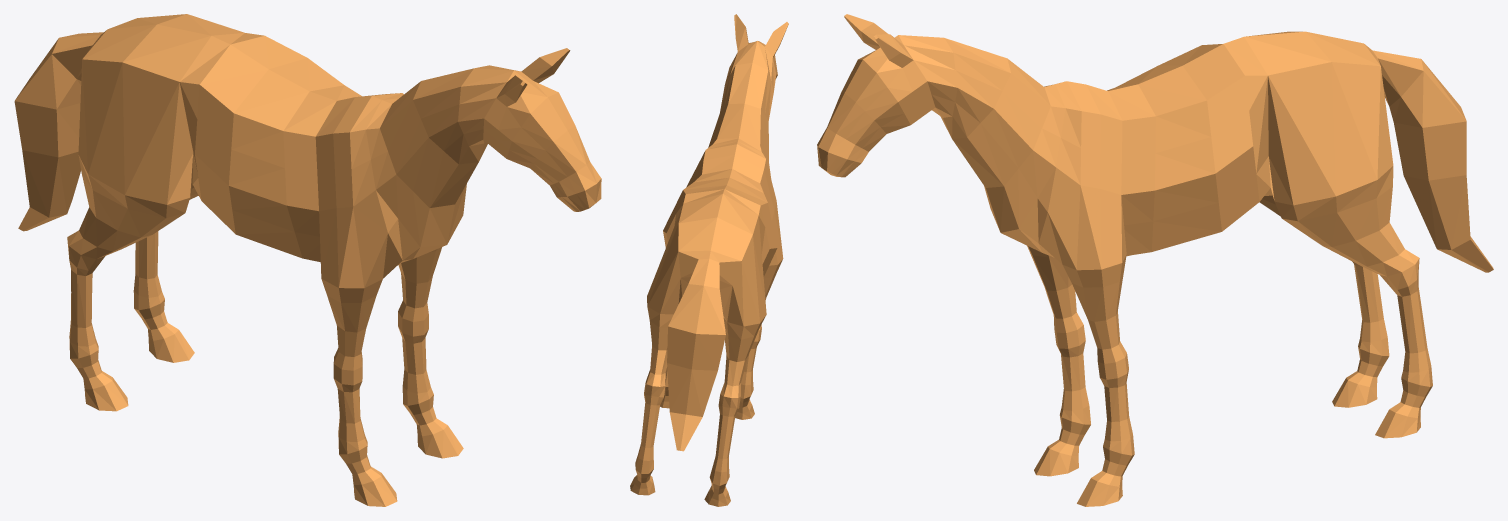
The model's file is horse.gltf.
3 views of the same model, side by side, from view 1: azimuth 30°, elevation 25°; view 2: azimuth 150°, elevation 25°; view 3: azimuth 270°, elevation 25° (orthographic). The views are drawn at different scales.
Visible parts, largest first — view 1: root; view 2: root; view 3: root.
Boxes of the visible parts, <box> form: root: <box>14,14,601,506</box>; root: <box>630,14,788,506</box>; root: <box>817,14,1493,506</box>.
Size of the model in its own units: 0.0506 by 0.0857 by 0.1085.
